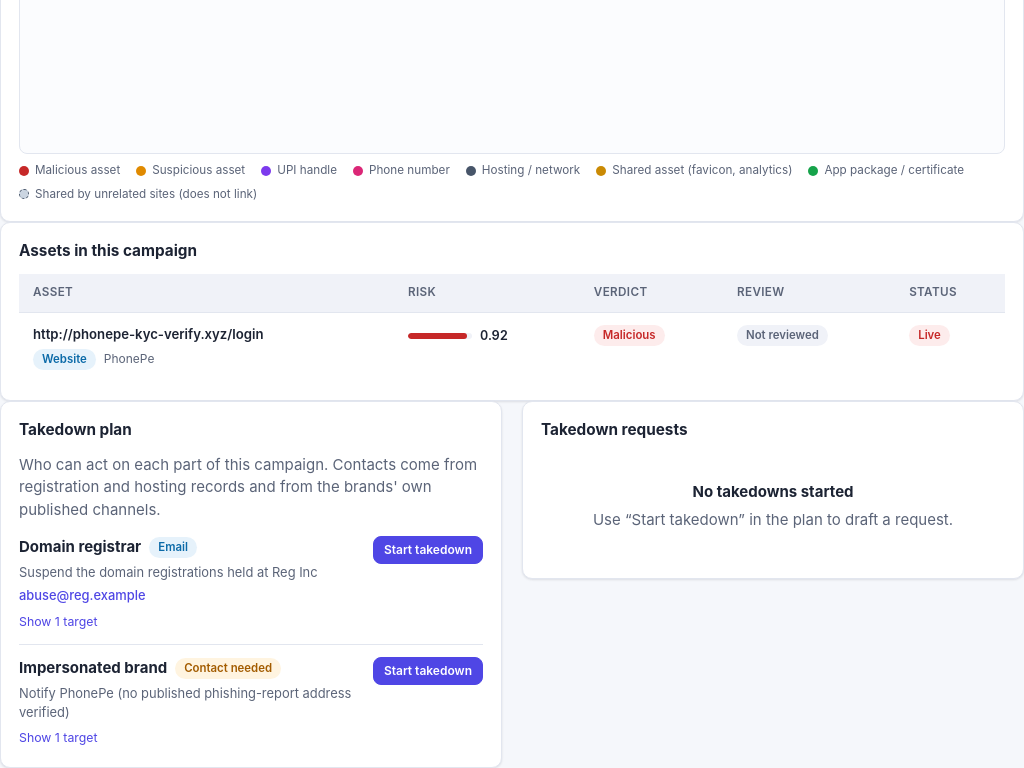
Test case: Campaign detail › starts a takedown and moves it through its lifecycle
(page scrolled)
Click the button "Start takedown" in the row of "Domain registrar" at (428, 550), box [373, 536, 483, 564]
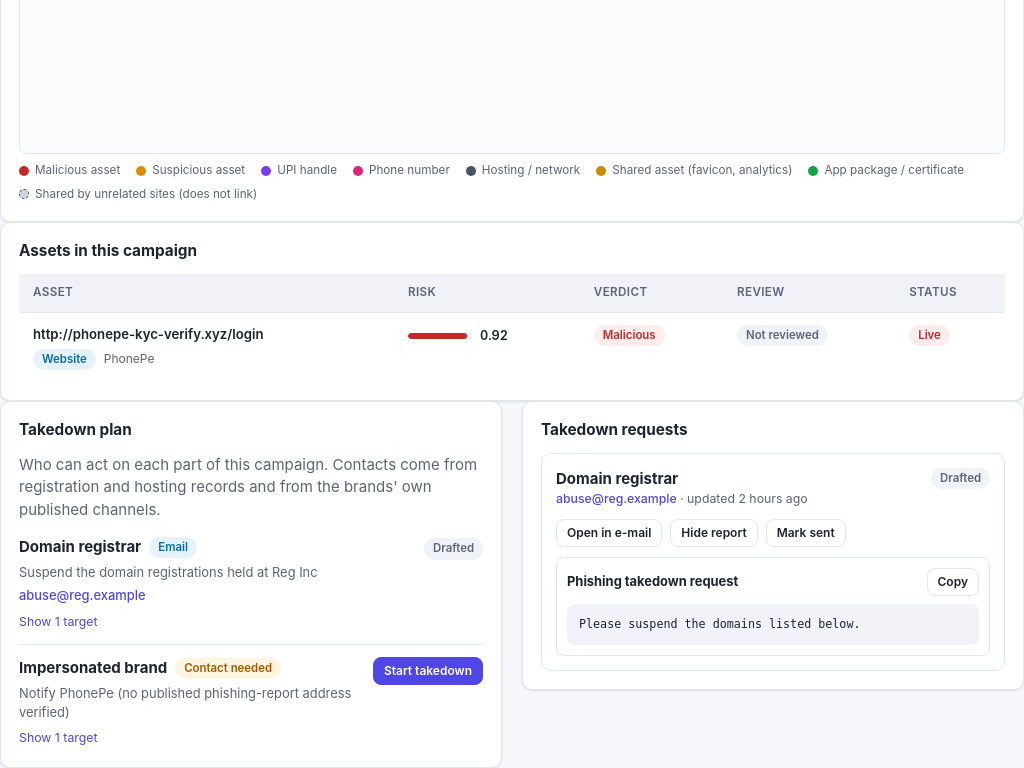
Result: the text "Please suspend the domains listed below." is shown at [567, 604, 979, 645]
Click the button "Mark sent" at (806, 533), box [766, 519, 846, 547]
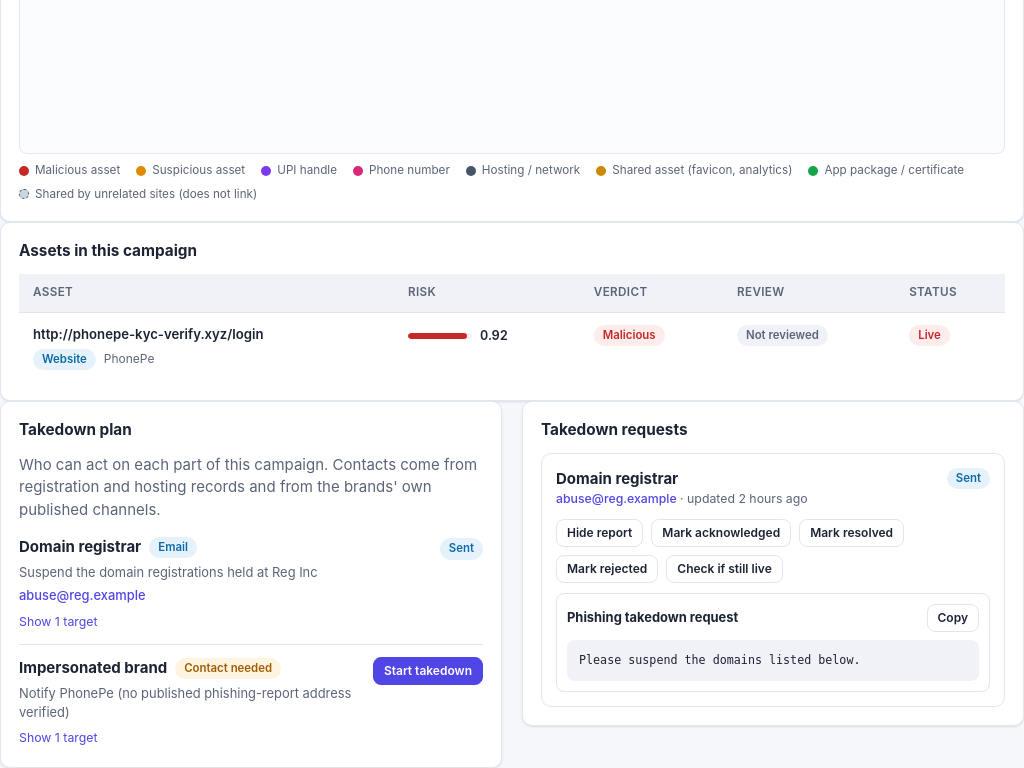
Result: the button "Check if still live" is shown
Click the button "Check if still live" at (724, 569), box [666, 555, 783, 583]
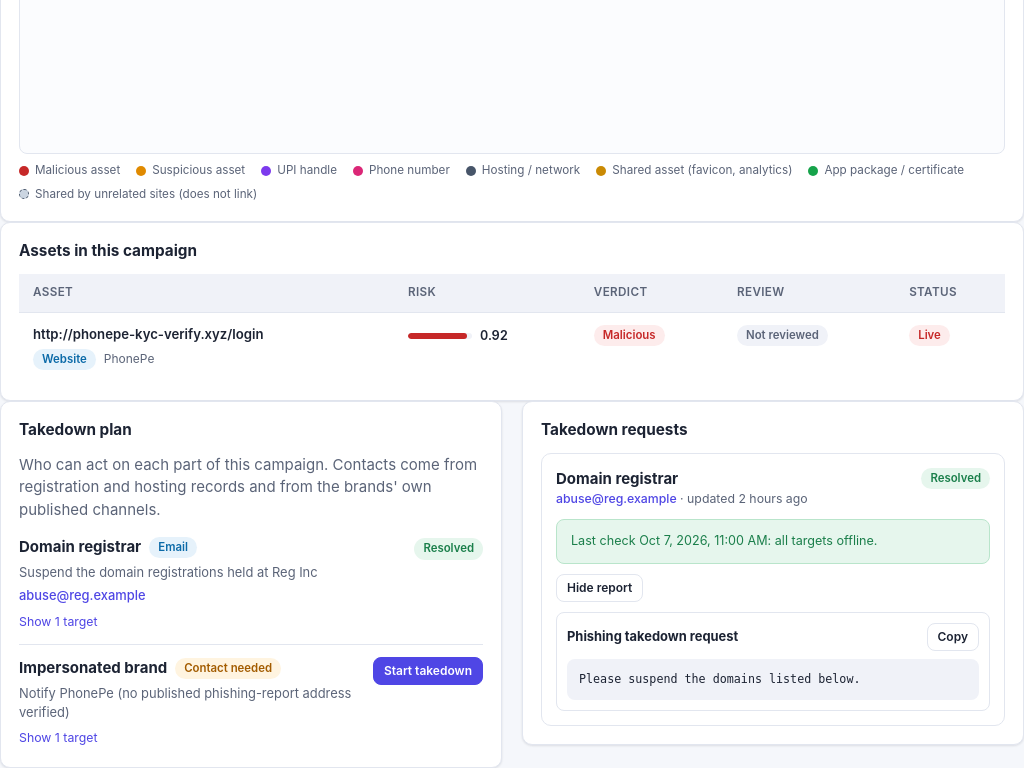
Result: the text "Last check Oct 7, 2026, 11:00 AM: all targets offline." is shown at [556, 519, 990, 564]
